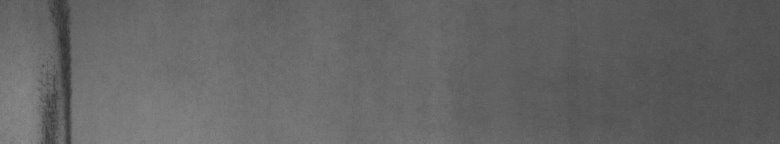hd: (36, 4, 79, 136)
